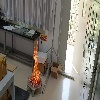fire: (30, 41, 40, 87)
